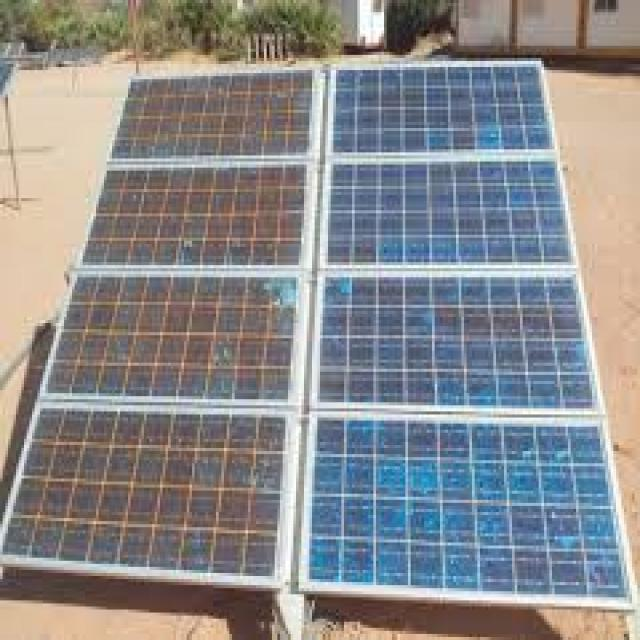faulty: (307, 415, 625, 597), (1, 401, 282, 584), (317, 277, 602, 411), (49, 277, 299, 398), (321, 160, 571, 266), (77, 165, 305, 260), (335, 69, 557, 159), (105, 69, 307, 160)
